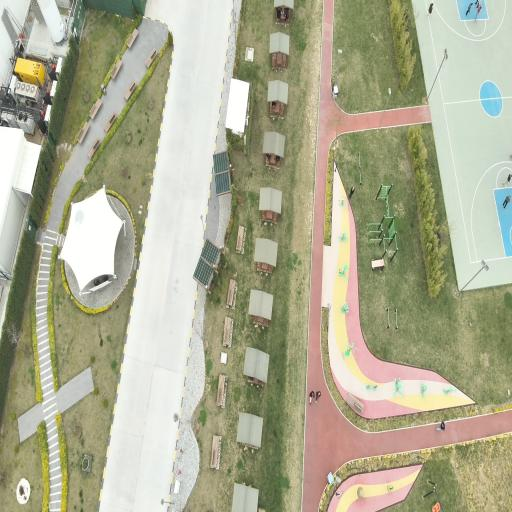person: (503, 173, 512, 187), (503, 195, 512, 209), (466, 2, 473, 16), (475, 4, 481, 19), (437, 421, 445, 430), (428, 3, 433, 17), (349, 186, 354, 198), (316, 391, 321, 402), (310, 391, 314, 403)
